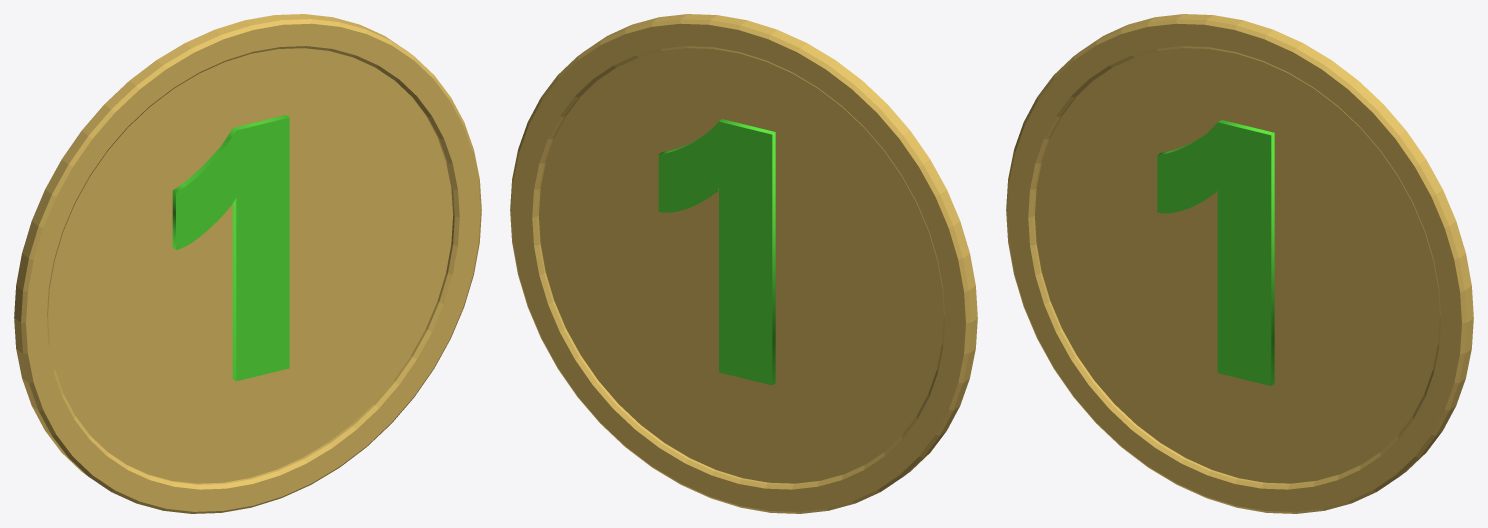
Rendered from coin1.fbx.
3 renders of one model, left to right at view 1: azimuth 30°, elevation 25°; view 2: azimuth 150°, elevation 25°; view 3: azimuth 330°, elevation 25°, orthographic.
Parts seen in each view (by area): view 1: Cylinder.004; view 2: Cylinder.004; view 3: Cylinder.004.
Boxes of the visible parts, box(x1,y1,x2,y2) form: Cylinder.004: box(14, 14, 481, 513); Cylinder.004: box(510, 14, 977, 513); Cylinder.004: box(1006, 14, 1473, 513).
Size of the model in its own units: 78.66 by 78.66 by 3.12.
